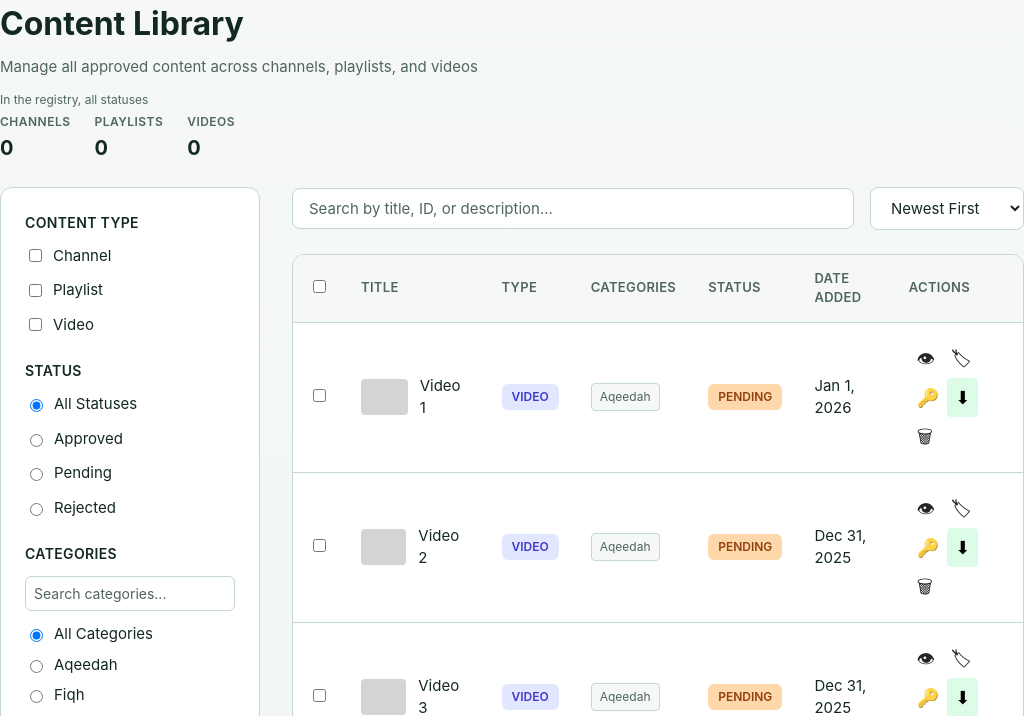
Test: ContentLibraryView keeps the loaded window across mutations › refills the list when a bulk action empties every loaded row
The width and height of the screenshot is (1024, 716).
Expected: the text "Video 1" is shown, [420, 376, 461, 417]
What coordinates should you click on to do the following:
click the radio button labelled "Pending"
I would click on:
 (36, 475)
Its box is [30, 468, 43, 481].
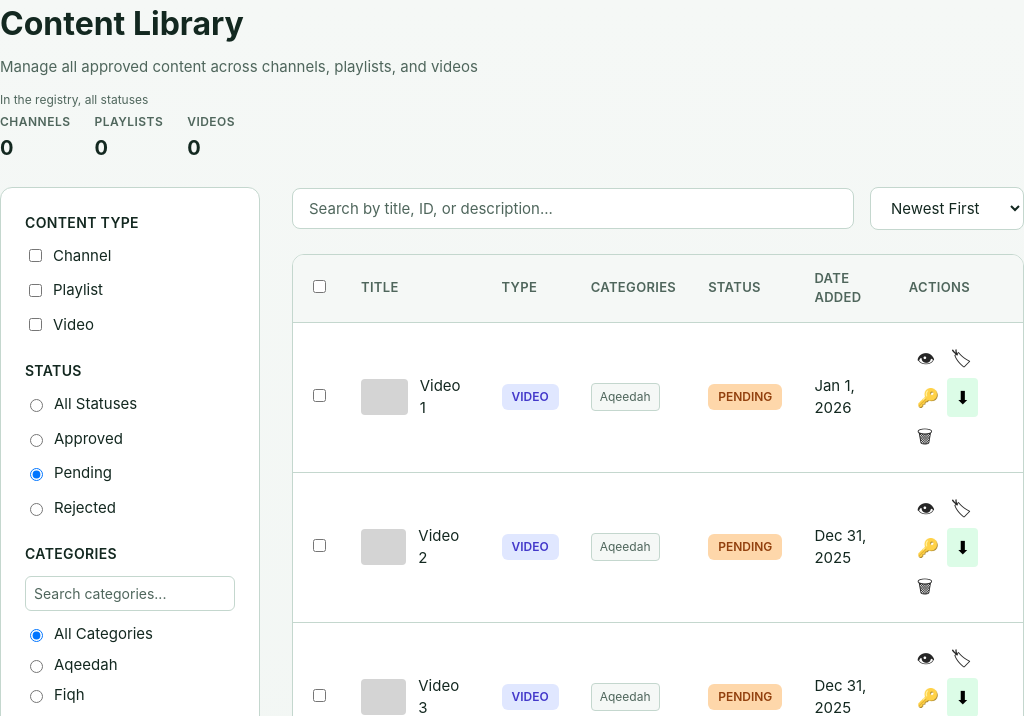
What coordinates should you click on to do the following:
click the checkbox next to "Title"
I would click on:
 (320, 287)
Its box is [313, 280, 326, 293].
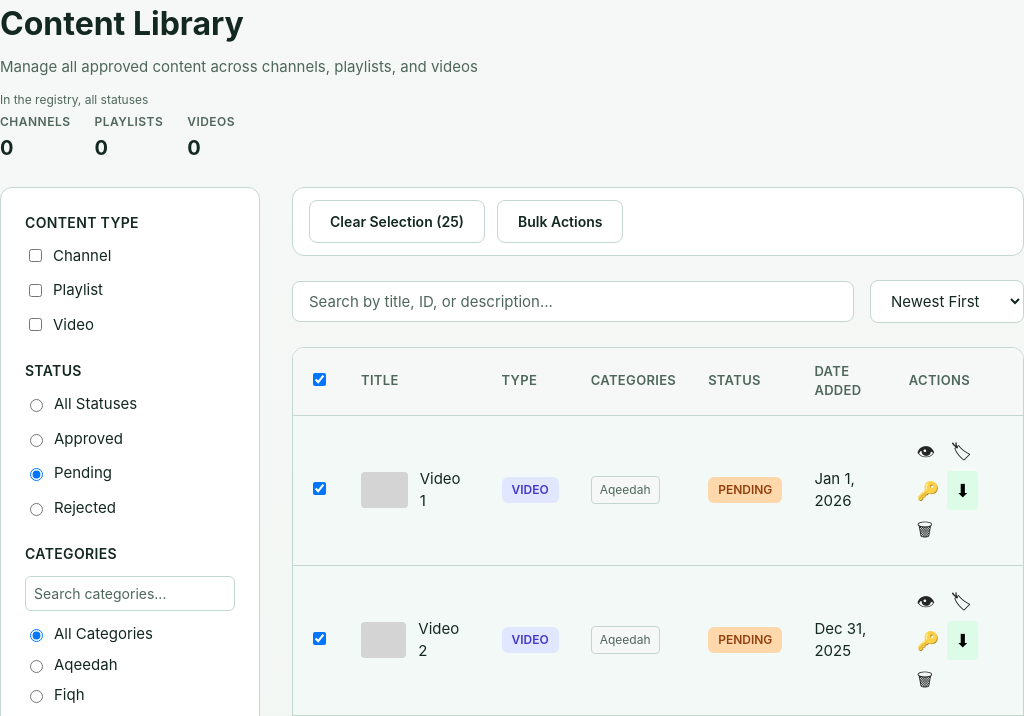
What coordinates should you click on to do the following:
click the button "Bulk Actions"
I would click on:
 (560, 221)
Its box is [497, 200, 624, 242].
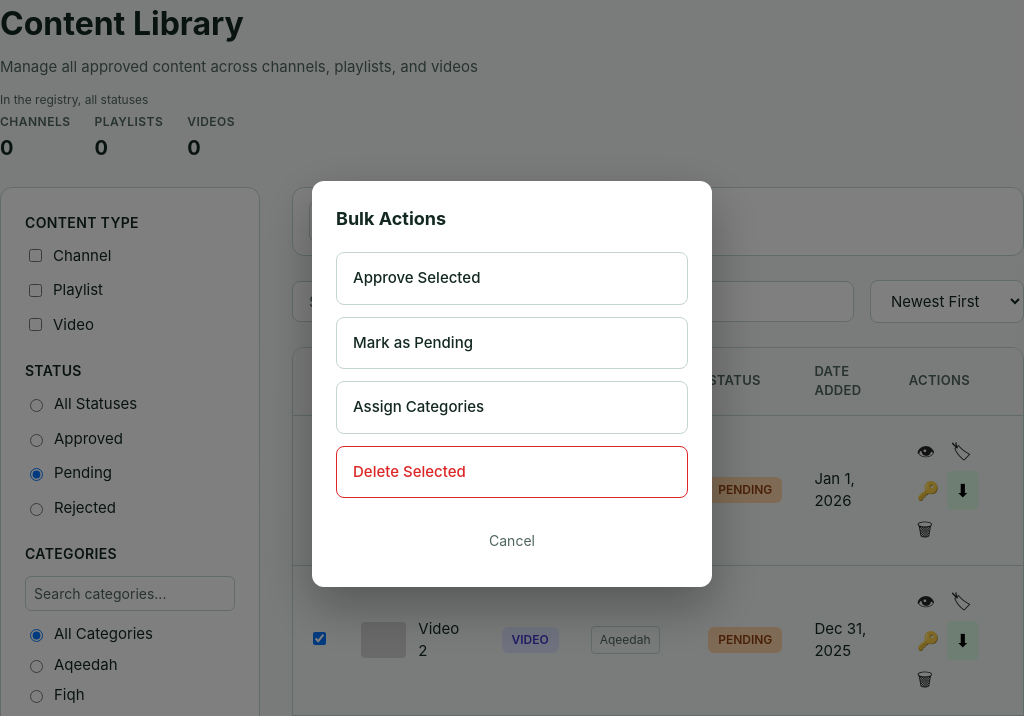
What coordinates should you click on to do the following:
click the button "Approve Selected"
I would click on:
 (417, 278)
Its box is [336, 252, 688, 304].
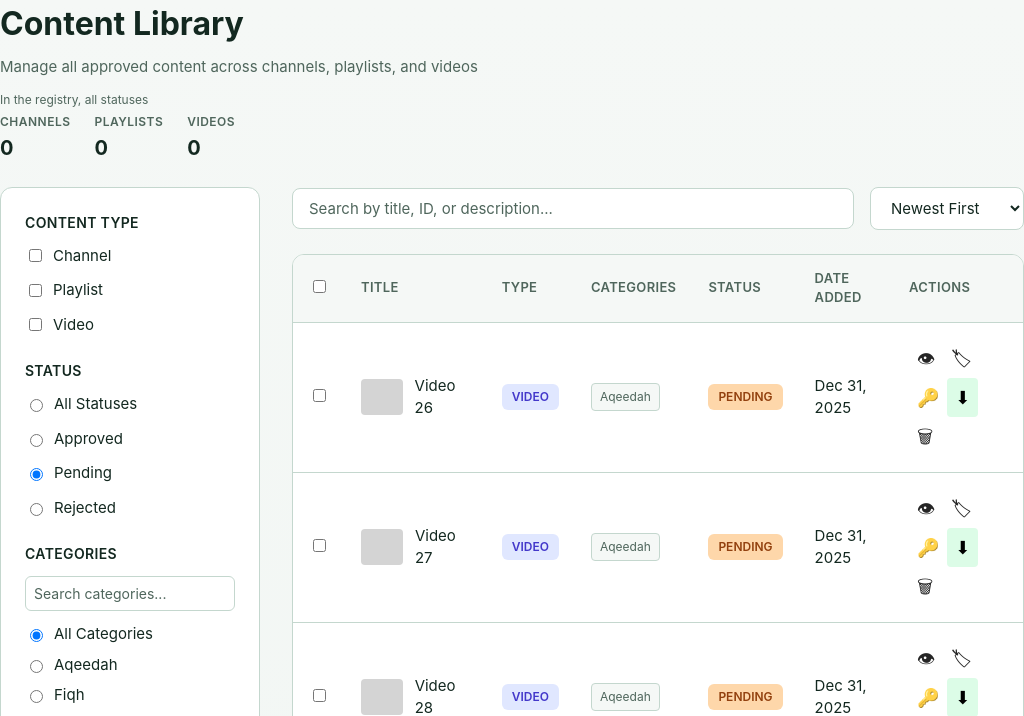
Expected: the text "Video 26" is shown, [415, 376, 456, 417]
